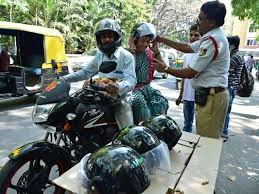helmet: (89, 15, 126, 57)
